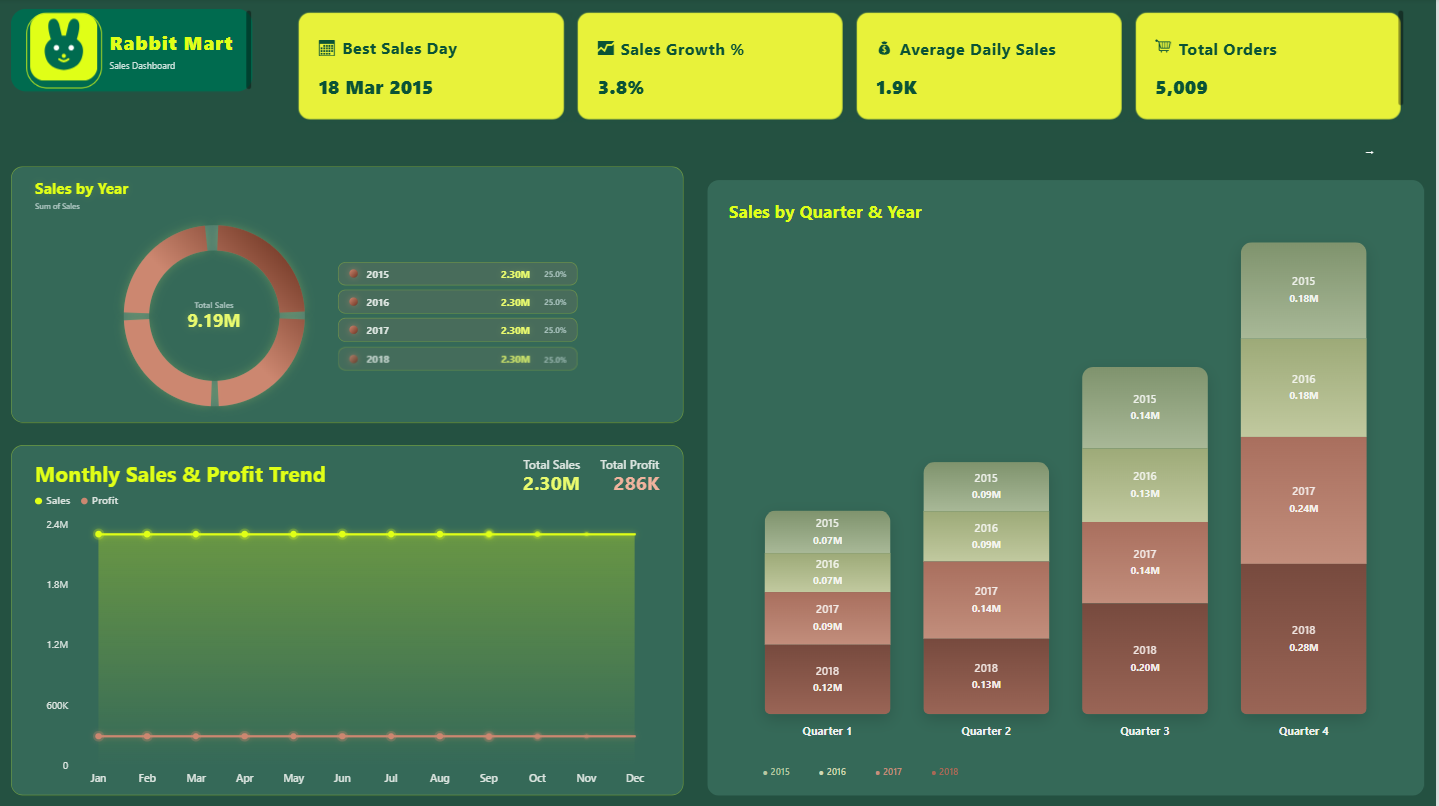

Layout of this report page (visuals, bound fields, positions):
{"tool":"powerbi","page":{"name":"Date","canvas":[1920,1080],"ordinal":3},"visuals":[{"type":"htmlContent443BE3AD55E043BF878BED274D3A6855","fields":{"content":["Category_Measure.Rabbit Logo"]},"box":[0,0,354.7,141.2],"z":0},{"type":"htmlContent443BE3AD55E043BF878BED274D3A6855","fields":{"content":["Category_Measure.Trend_Chart"]},"box":[0,582.7,930.2,497.7],"z":1000},{"type":"htmlContent443BE3AD55E043BF878BED274D3A6855","fields":{"content":["Category_Measure.Donut_Chart"]},"box":[0,209.9,930.2,372.8],"z":2000},{"type":"htmlContent443BE3AD55E043BF878BED274D3A6855","fields":{"content":["Category_Measure.Date_Header"]},"box":[378.2,0,1514.7,182.8],"z":3000},{"type":"htmlContent443BE3AD55E043BF878BED274D3A6855","fields":{"content":["Category_Measure.Quarter_Chart"]},"box":[930.2,228,989.9,852.4],"z":4000},{"type":"actionButton","box":[1768,182.8,124.9,45.2],"z":5000}]}

Visuals, with their boxes in screenshot pixels (x1, y1, x2, y2), scaled from the page's 1920x1080 canvas onto the 1439x806 screenshot:
htmlContent443BE3AD55E043BF878BED274D3A6855 - Category_Measure.Rabbit Logo: 0,0,266,105
htmlContent443BE3AD55E043BF878BED274D3A6855 - Category_Measure.Trend_Chart: 0,435,697,805
htmlContent443BE3AD55E043BF878BED274D3A6855 - Category_Measure.Donut_Chart: 0,157,697,435
htmlContent443BE3AD55E043BF878BED274D3A6855 - Category_Measure.Date_Header: 283,0,1419,136
htmlContent443BE3AD55E043BF878BED274D3A6855 - Category_Measure.Quarter_Chart: 697,170,1438,805
actionButton: 1325,136,1419,170
